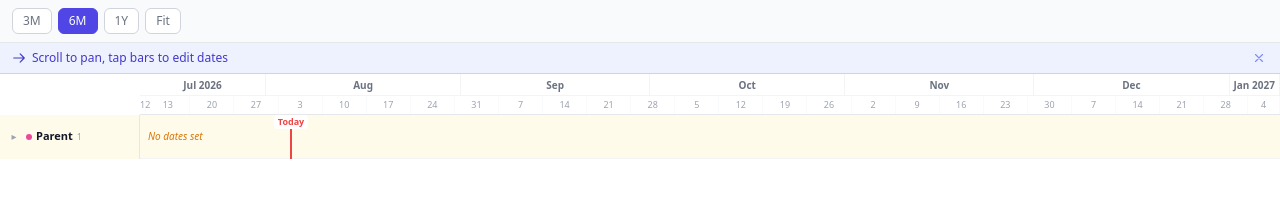
RoadmapMobileView › item rows › expands children when toggle is clicked
Expected: the number of elements with test id "gantt-row" is 1, [0, 115, 1279, 159]
Click the button named "Toggle expand" at (14, 136), box [6, 128, 22, 144]
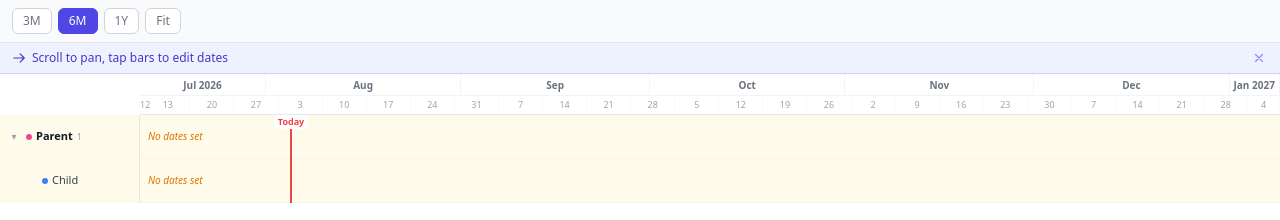
Result: the number of elements with test id "gantt-row" is 2 at [0, 115, 1279, 159]; [0, 159, 1279, 203]
